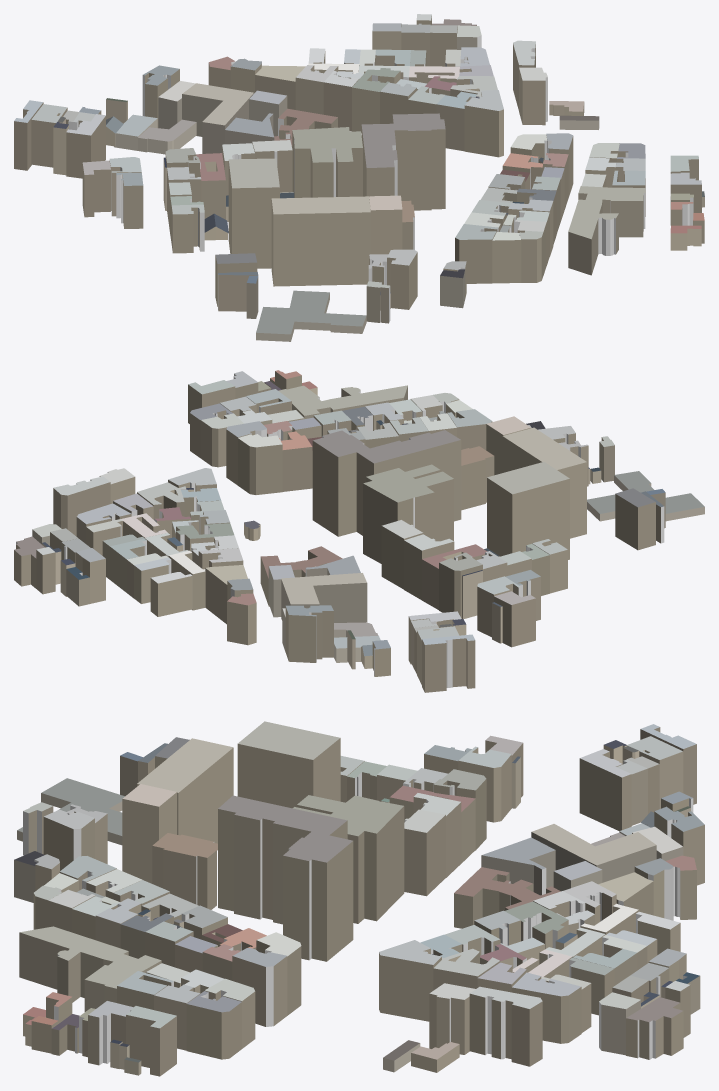
3 views of the same model, one above another, from view 1: azimuth 30°, elevation 25°; view 2: azimuth 150°, elevation 25°; view 3: azimuth 270°, elevation 25° (orthographic). The views are drawn at different scales.
Parts seen in each view (by area): view 1: tuile; view 2: tuile; view 3: tuile.
Part boxes in pixels (x1,y1,x2,y2): tuile: (14, 14, 704, 341); tuile: (14, 370, 704, 692); tuile: (14, 721, 704, 1076).
Bounding box in the file's own units: 260 × 41.8 × 257.
